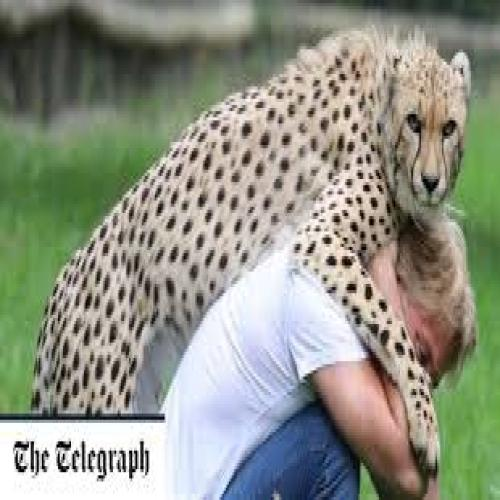cheetah-endangered: (29, 30, 473, 414)
